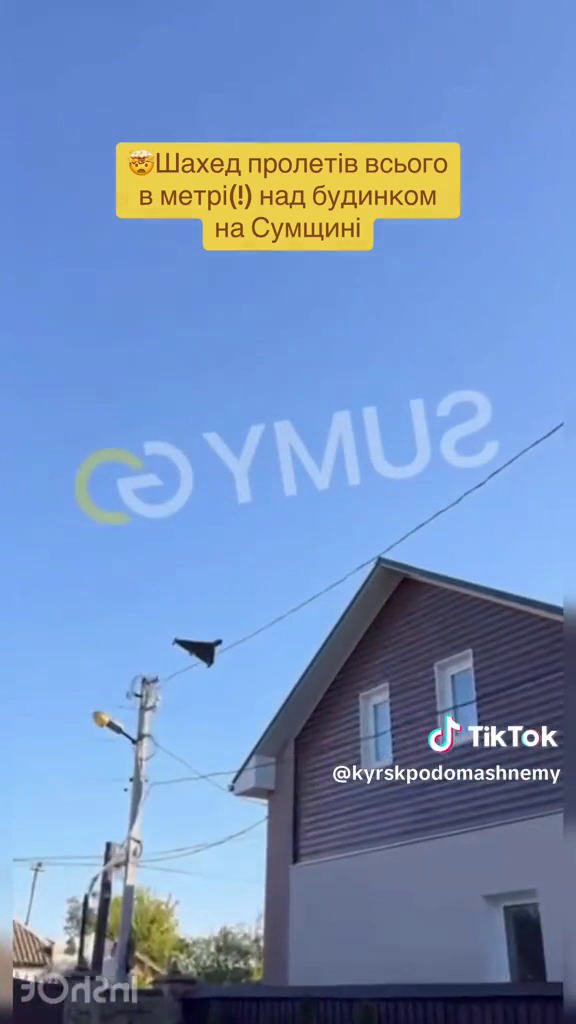shahed: (171, 632, 226, 672)
